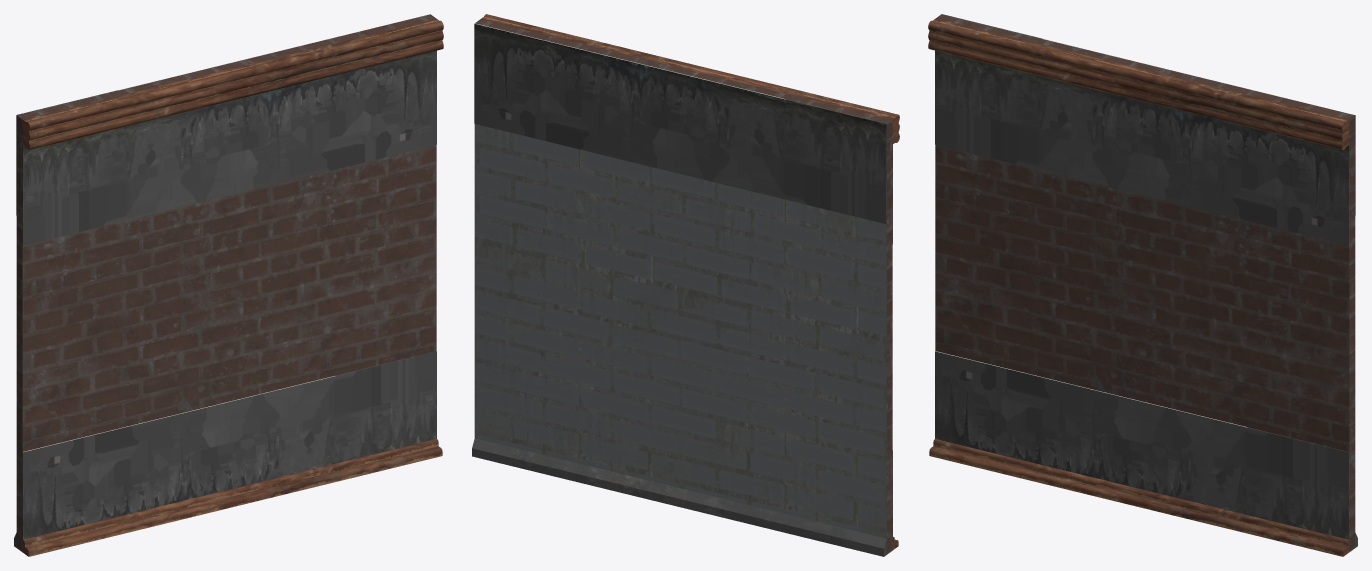
File: Kit_WallBlockConcreteEmpty.fbx
3 views of the same model, side by side, from view 1: azimuth 30°, elevation 25°; view 2: azimuth 150°, elevation 25°; view 3: azimuth 330°, elevation 25° (orthographic).
Visible parts, largest first — view 1: Kit_WallBlockConcreteEmpty; view 2: Kit_WallBlockConcreteEmpty; view 3: Kit_WallBlockConcreteEmpty.
Boxes of the visible parts, x1,y1,x2,y2 form: Kit_WallBlockConcreteEmpty: (14,14,443,556); Kit_WallBlockConcreteEmpty: (472,14,899,556); Kit_WallBlockConcreteEmpty: (928,14,1357,556).
Size of the model in its own units: 157 by 158 by 10.55.
